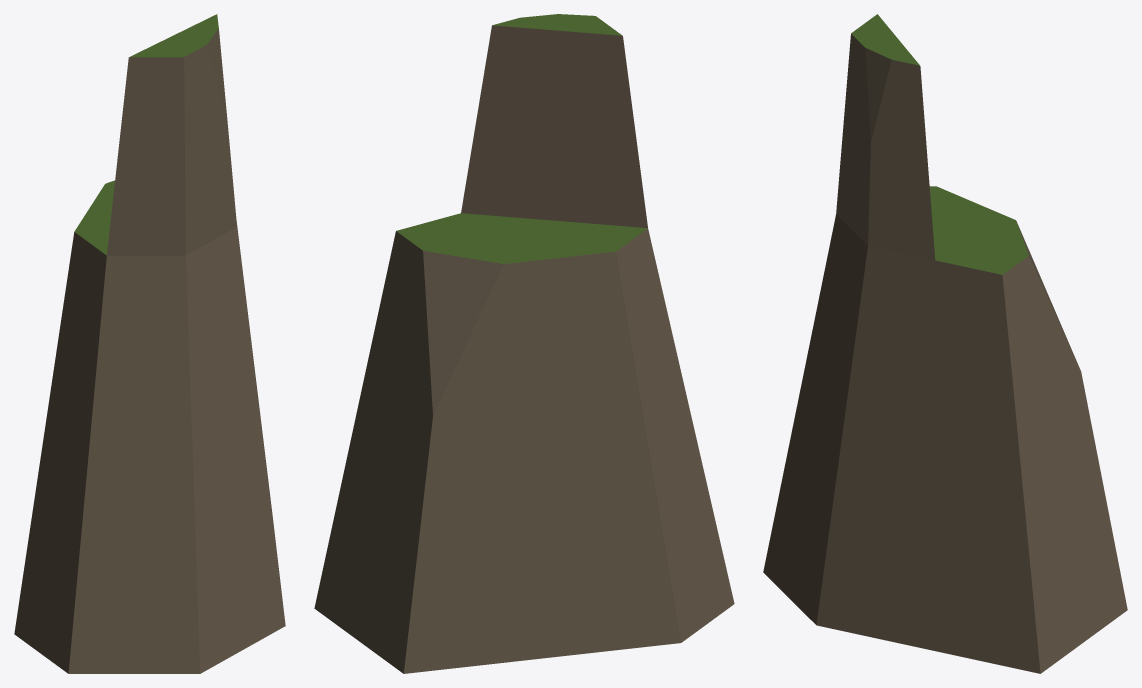
The model's file is rock_tall_d.glb.
3 renders of one model, left to right at view 1: azimuth 30°, elevation 25°; view 2: azimuth 150°, elevation 25°; view 3: azimuth 270°, elevation 25°, orthographic. The views are drawn at different scales.
Parts seen in each view (by area): view 1: rock_tallD; view 2: rock_tallD; view 3: rock_tallD.
Boxes of the visible parts, <box> form: rock_tallD: <box>14,14,285,673</box>; rock_tallD: <box>314,14,734,673</box>; rock_tallD: <box>763,14,1127,673</box>.
Size of the model in its own units: 0.4428 by 0.7721 by 0.4615.
